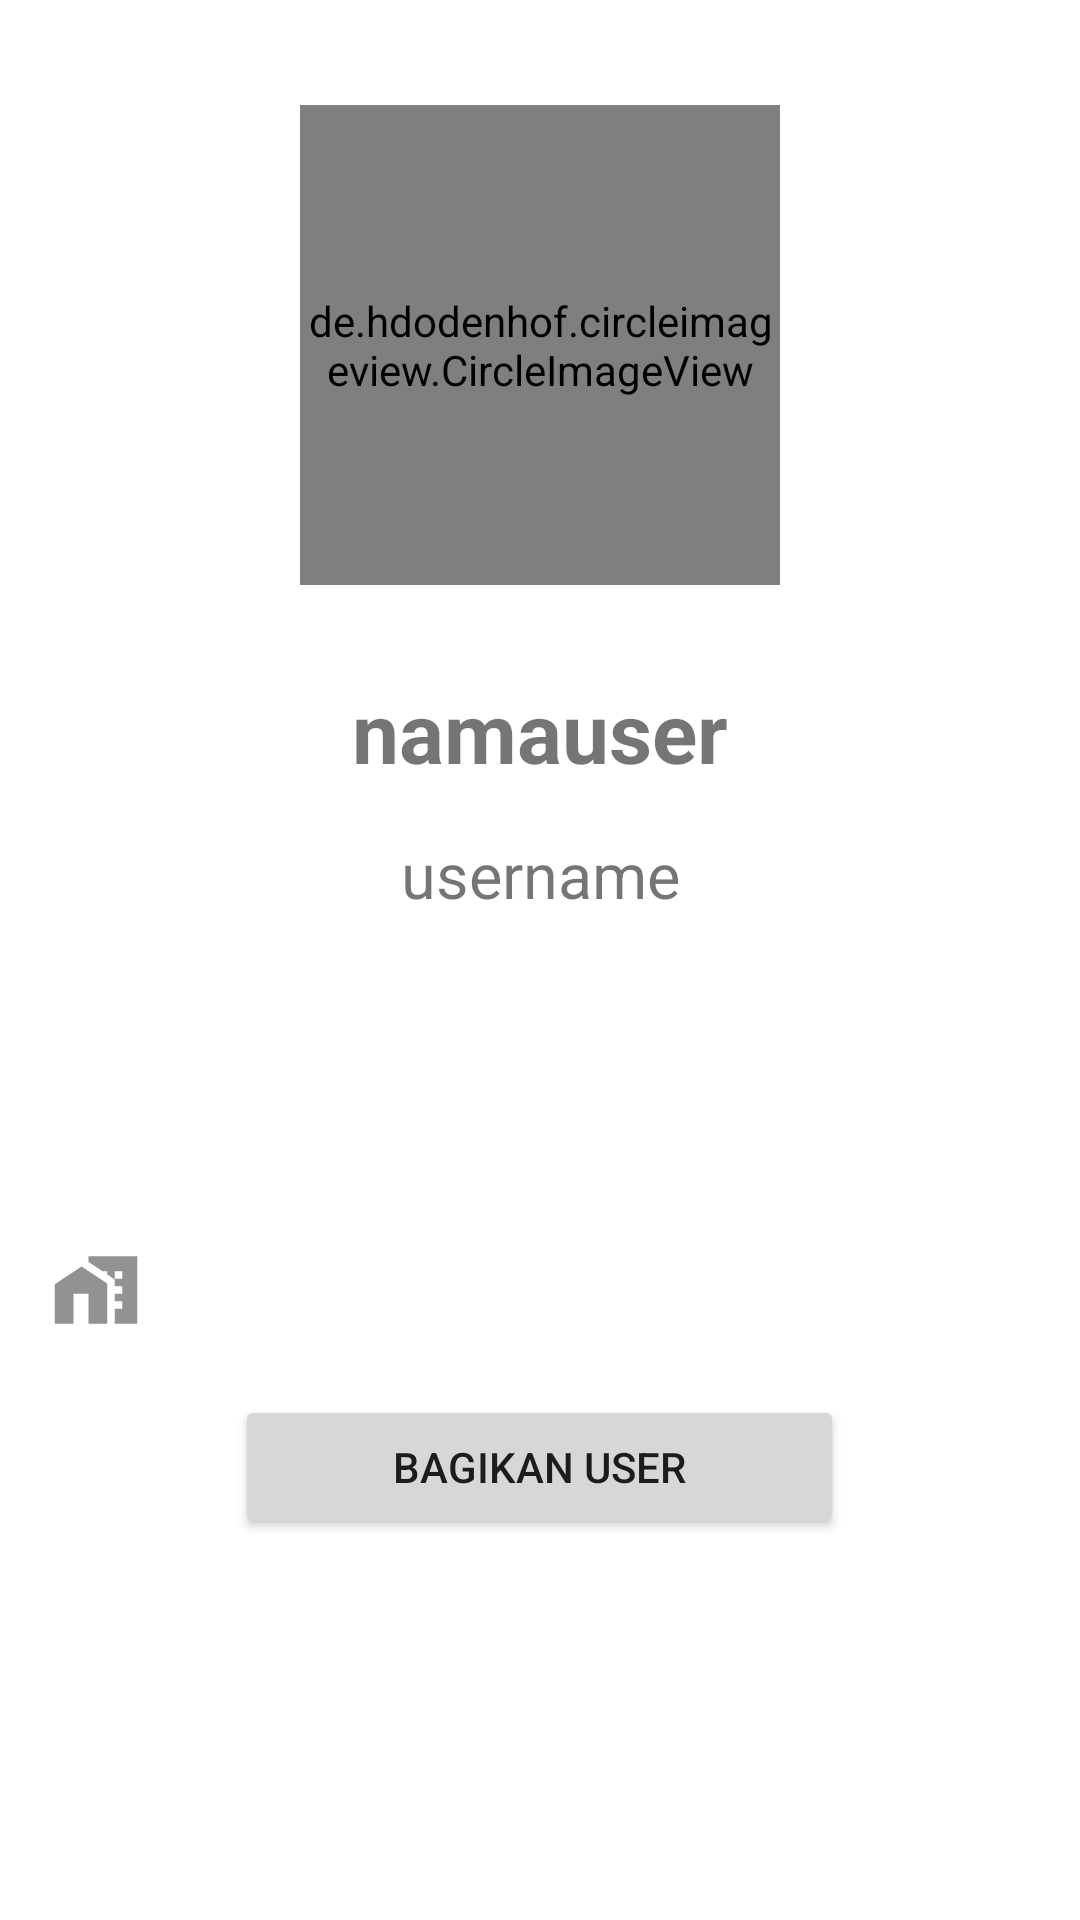

Point at icon controls on the screen. Image size 1080 x 1920, points as (x=x, y=y).
home work: (x=96, y=1290)
